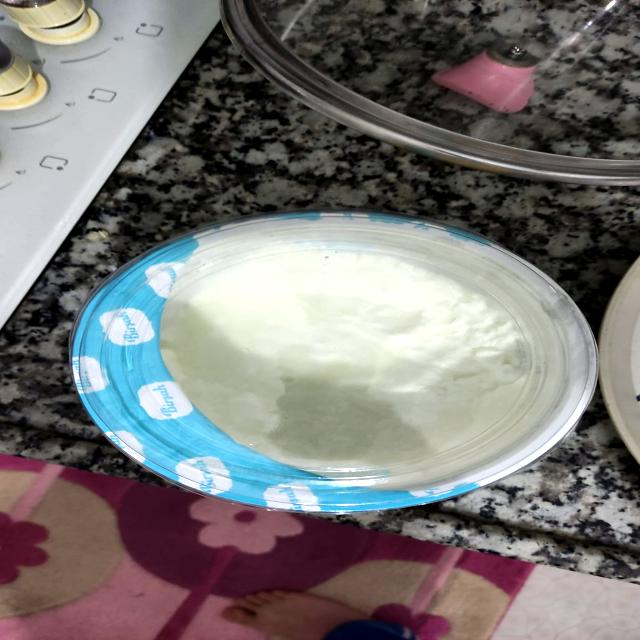yogurt: (69, 192, 603, 516)
